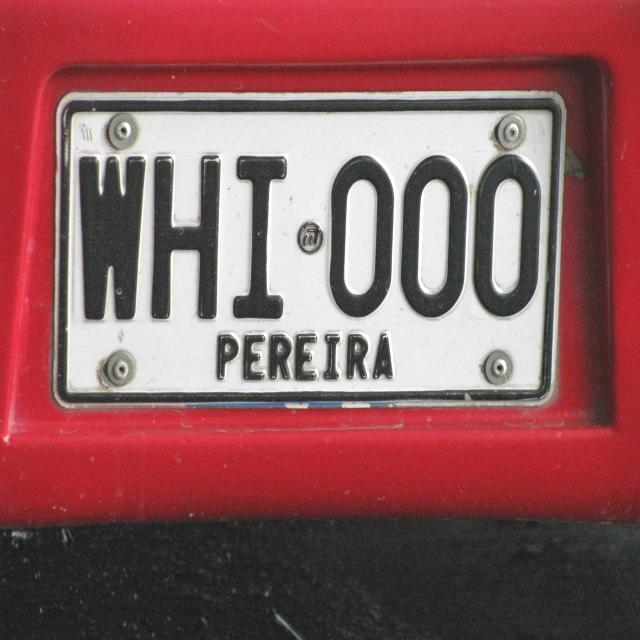placa: (49, 83, 568, 410)
